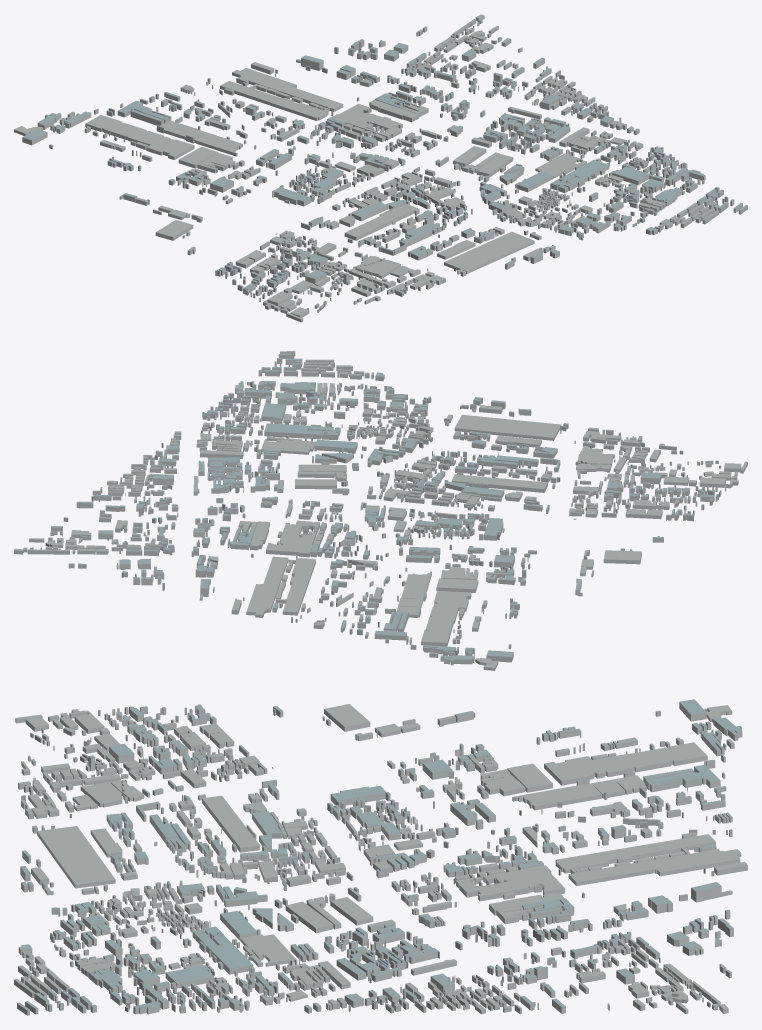
The model's file is far.glb.
The picture shows the model from 3 angles, top to bottom: view 1: azimuth 30°, elevation 25°; view 2: azimuth 150°, elevation 25°; view 3: azimuth 270°, elevation 25°; orthographic projection. The views are drawn at different scales.
Size of the model in its own units: 2163 by 43.01 by 2166.
